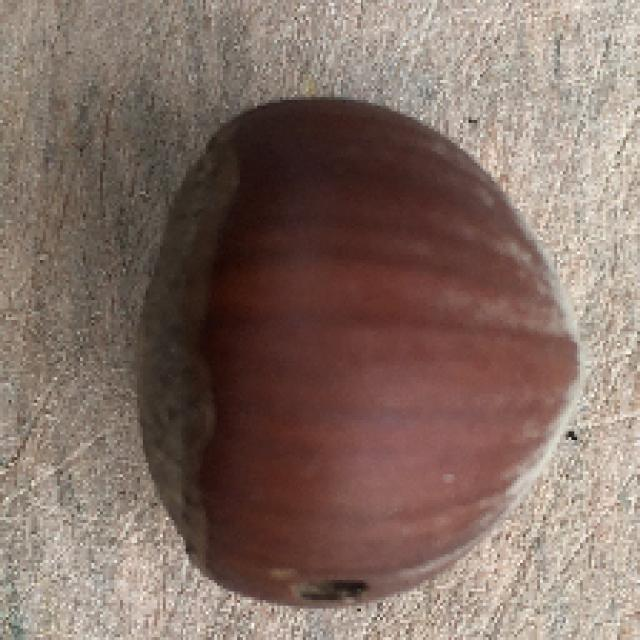damagedHazelnut: (119, 84, 586, 610)
